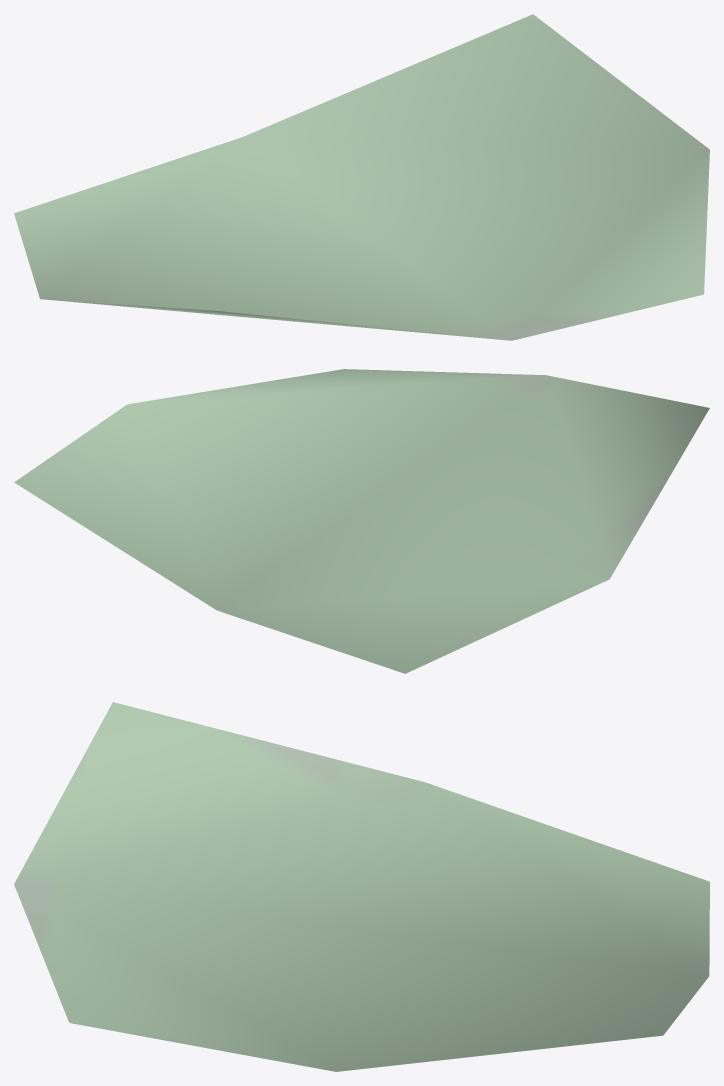
The model's file is TROLLHOLE02_HOLECAP165.fbx.
3 views of the same model, one above another, from view 1: azimuth 30°, elevation 25°; view 2: azimuth 150°, elevation 25°; view 3: azimuth 270°, elevation 25° (orthographic). The views are drawn at different scales.
Visible parts, largest first — view 1: TROLLHOLE02_HOLECAP165; view 2: TROLLHOLE02_HOLECAP165; view 3: TROLLHOLE02_HOLECAP165.
Boxes of the visible parts, x1=… form: TROLLHOLE02_HOLECAP165: x1=14, y1=14, x2=709, y2=340; TROLLHOLE02_HOLECAP165: x1=14, y1=369, x2=709, y2=673; TROLLHOLE02_HOLECAP165: x1=14, y1=702, x2=709, y2=1071.
Size of the model in its own units: 36642 by 7392 by 33828.
Materials: 1 (1 with a texture image).
